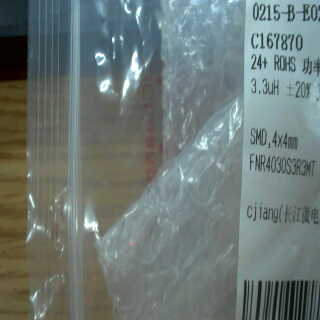3.3uH: (247, 71, 283, 104)
